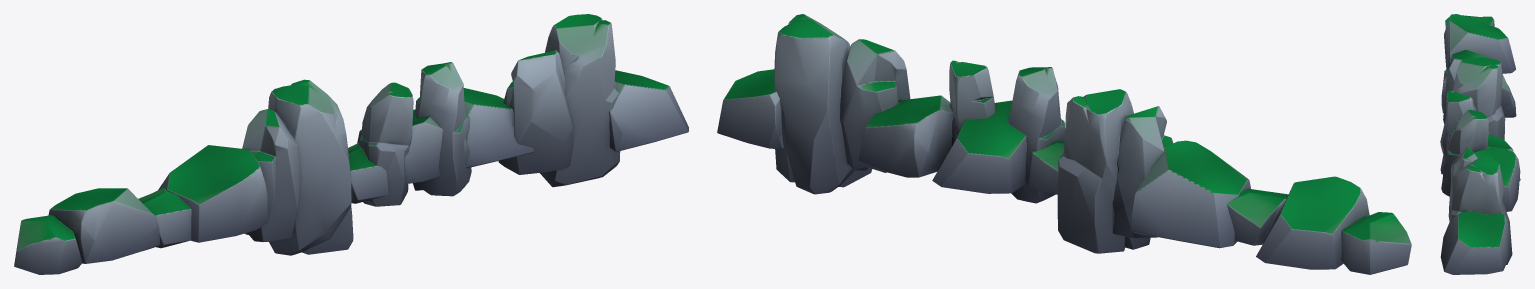
The model's file is WallRocksDark_01.fbx.
3 views of the same model, side by side, from view 1: azimuth 30°, elevation 25°; view 2: azimuth 150°, elevation 25°; view 3: azimuth 270°, elevation 25° (orthographic). The views are drawn at different scales.
Visible parts, largest first — view 1: RockFountainDark_LOW.011; view 2: RockFountainDark_LOW.011; view 3: RockFountainDark_LOW.011.
Boxes of the visible parts, box(x1,y1,x2,y2) form: RockFountainDark_LOW.011: box(14, 14, 688, 274); RockFountainDark_LOW.011: box(717, 14, 1411, 274); RockFountainDark_LOW.011: box(1440, 14, 1520, 274).
Size of the model in its own units: 3263 by 688 by 471.
